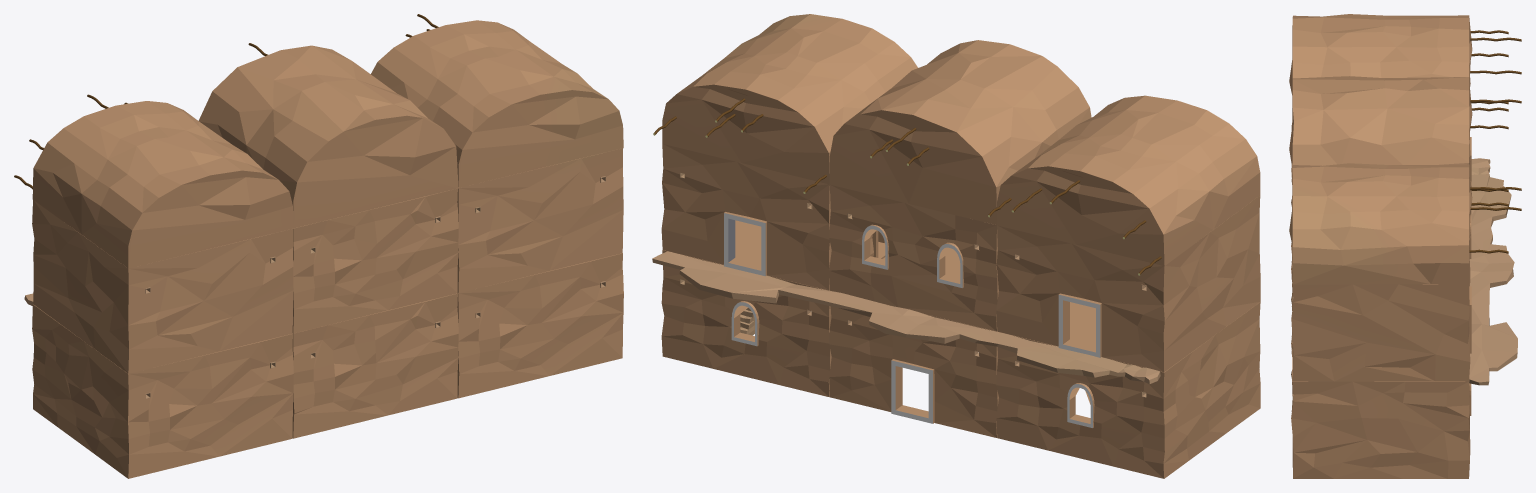
The model's file is Tunusia_V3_colored.fbx.
The picture shows the model from 3 angles, left to right: view 1: azimuth 30°, elevation 25°; view 2: azimuth 150°, elevation 25°; view 3: azimuth 270°, elevation 25°; orthographic projection. The views are drawn at different scales.
Visible parts, largest first — view 1: Tunisia_v3; view 2: Tunisia_v3; view 3: Tunisia_v3.
Boxes of the visible parts, x1,y1,x2,y2 form: Tunisia_v3: [14, 14, 623, 478]; Tunisia_v3: [652, 14, 1260, 478]; Tunisia_v3: [1289, 14, 1521, 478].
Bounding box in the file's own units: 2954 × 1708 × 1289.
1 material, 1 textured.
